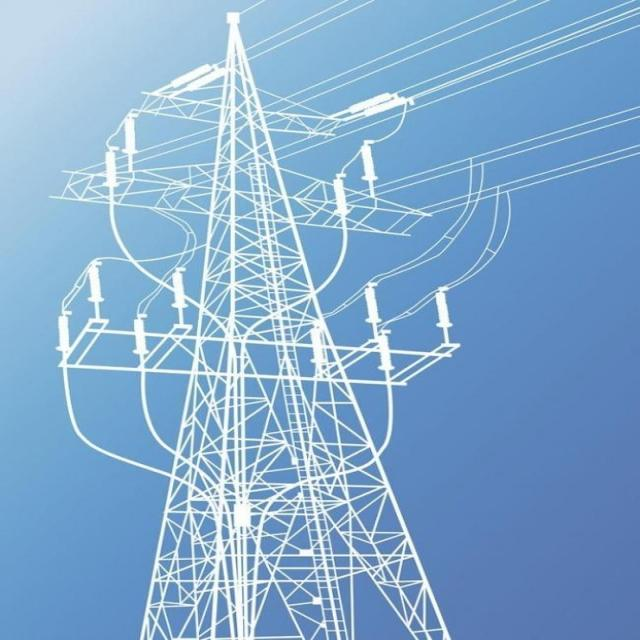non-critical vegetation: (84, 49, 474, 630)
